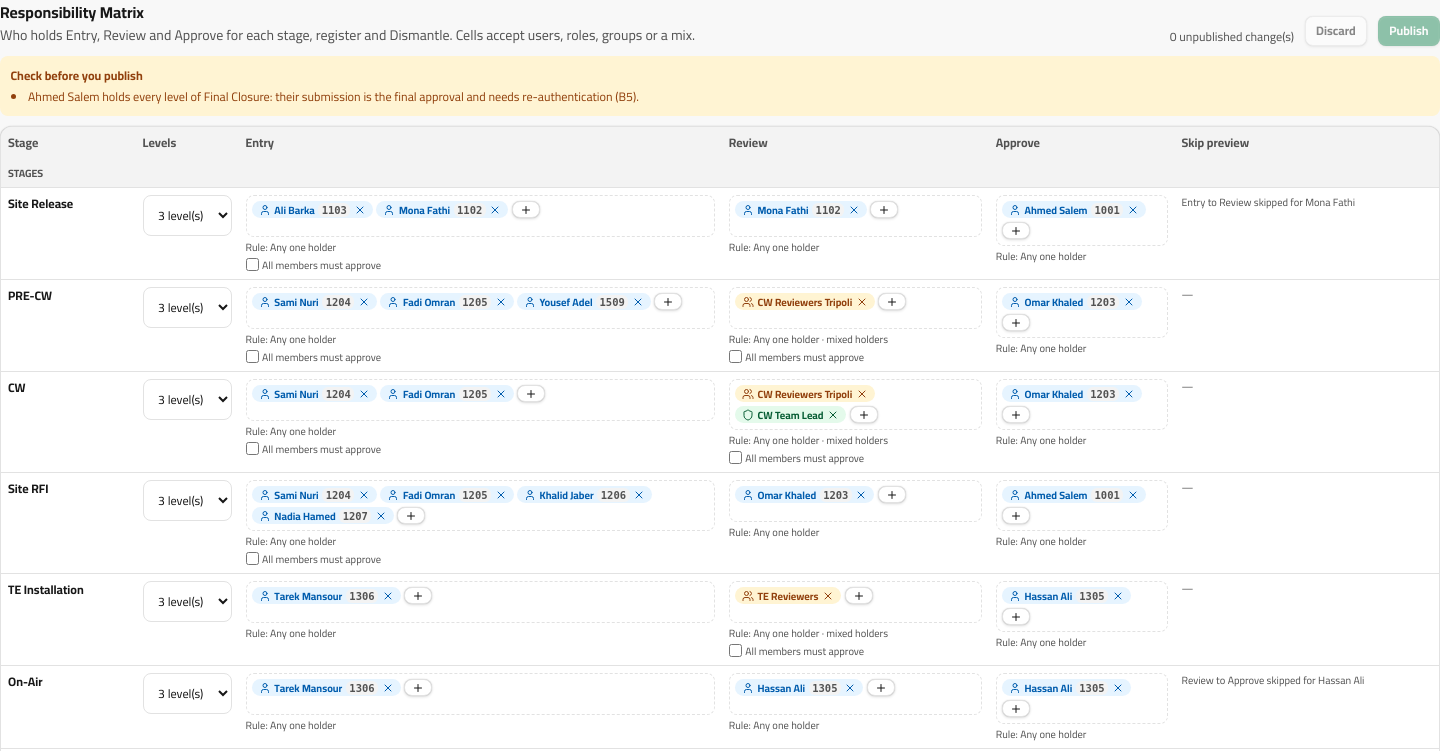
Matrix page with a 2-level row › shows the skip between entry and approve of a 2-level row (the same person holds cells 1 and 3)
Select "2 level(s)" in the dropdown with test id "matrix-levels-site_release" at coordinates (187, 215), box [143,194,232,236]
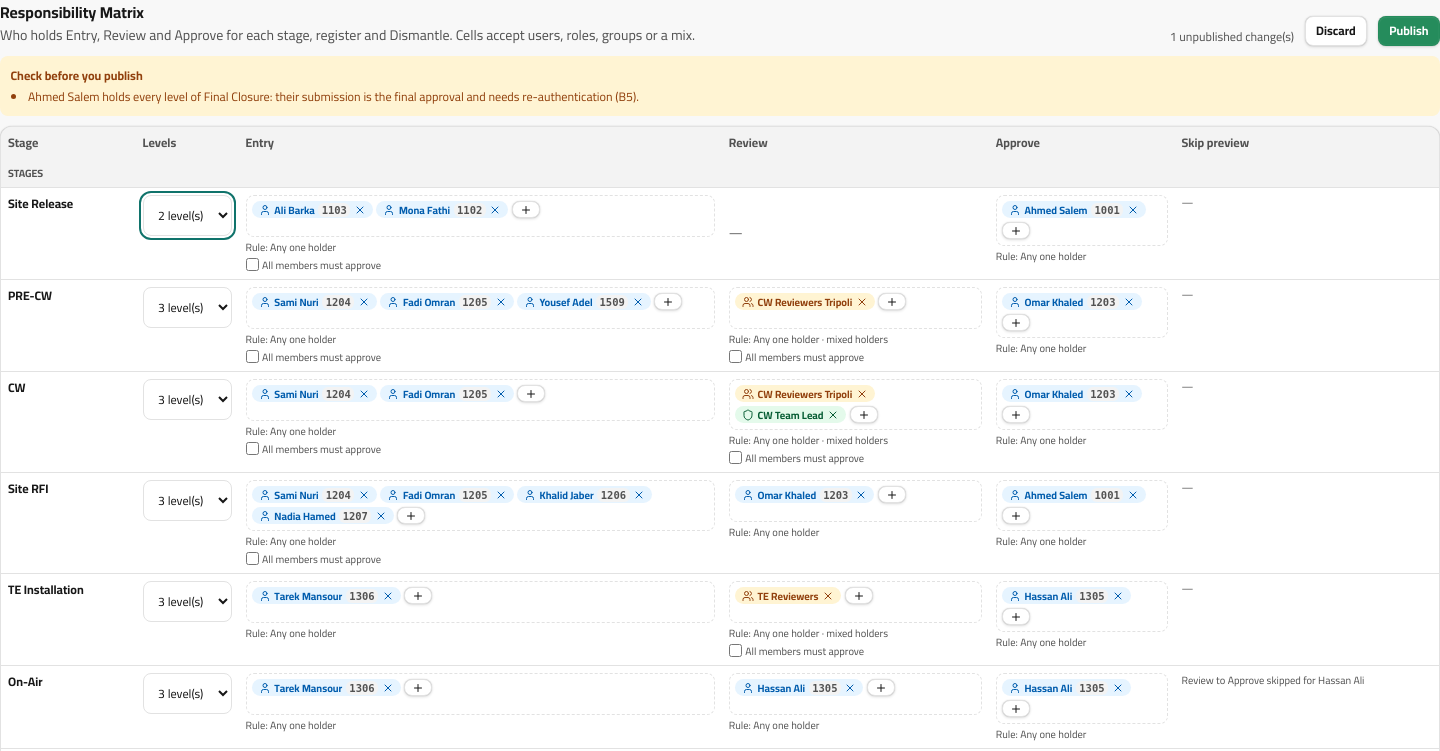
Click the 2nd button with test id "matrix-add".
click(1016, 231)  # box [1002,222,1030,239]
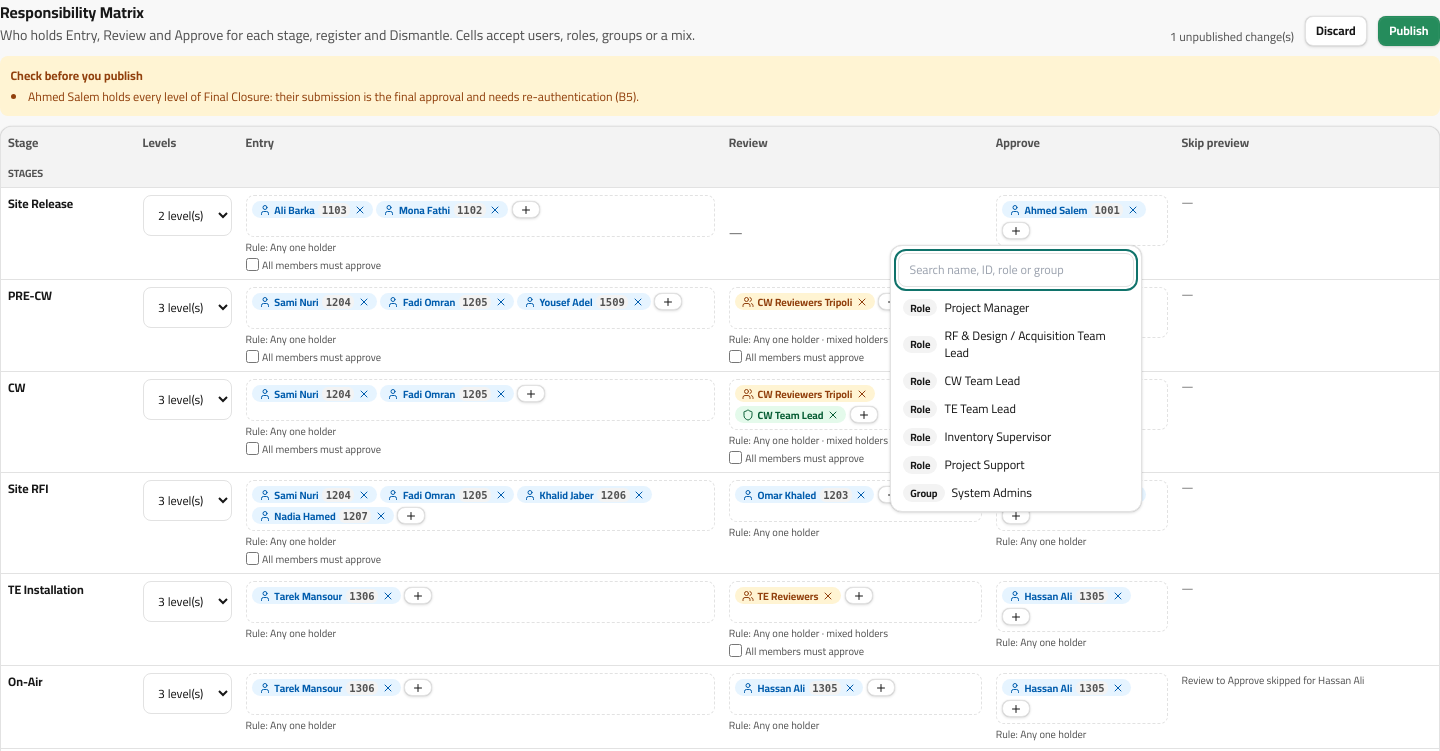
Type "Mona" into the field with test id "matrix-picker-q".
click(1016, 270); type("Mona")  # box [898,253,1134,286]
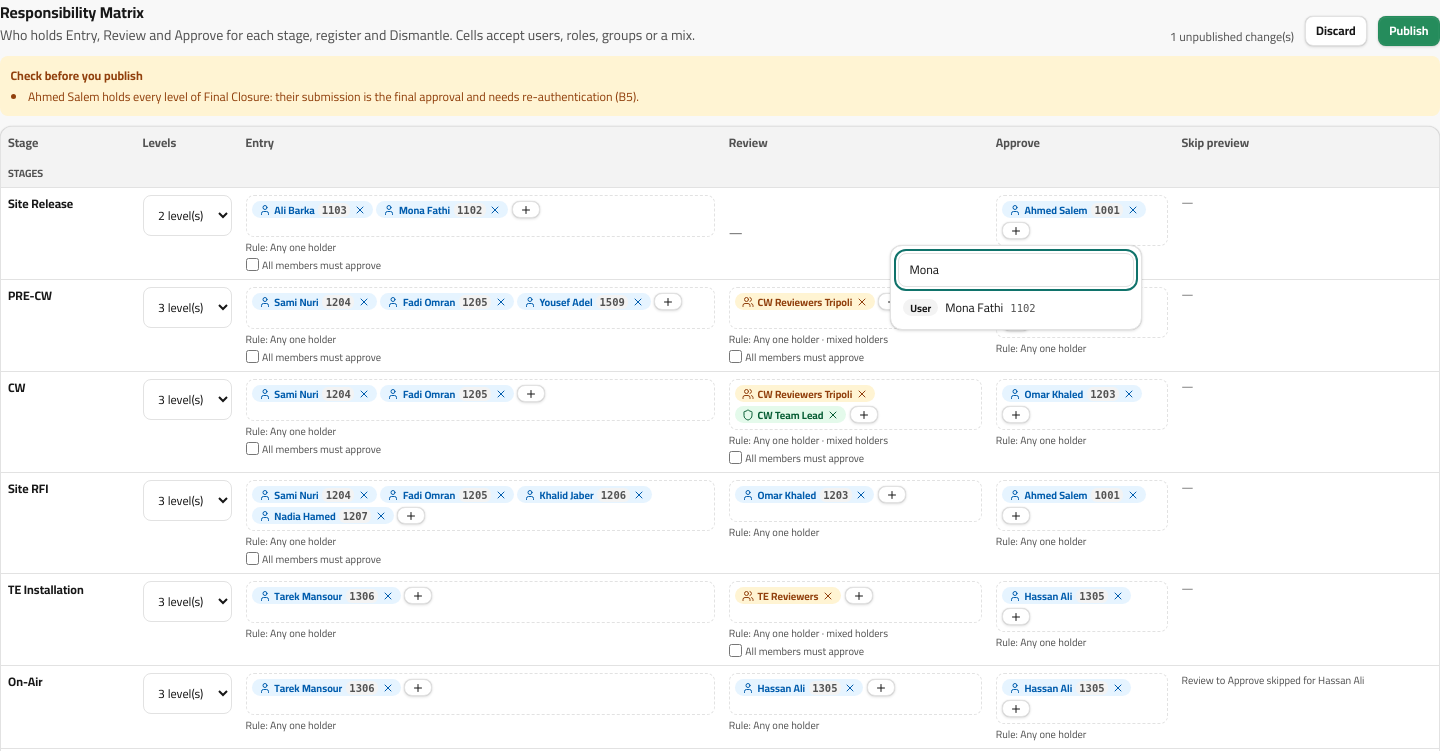
Click the button with test id "matrix-opt-user-1102".
click(1016, 308)  # box [898,294,1134,322]
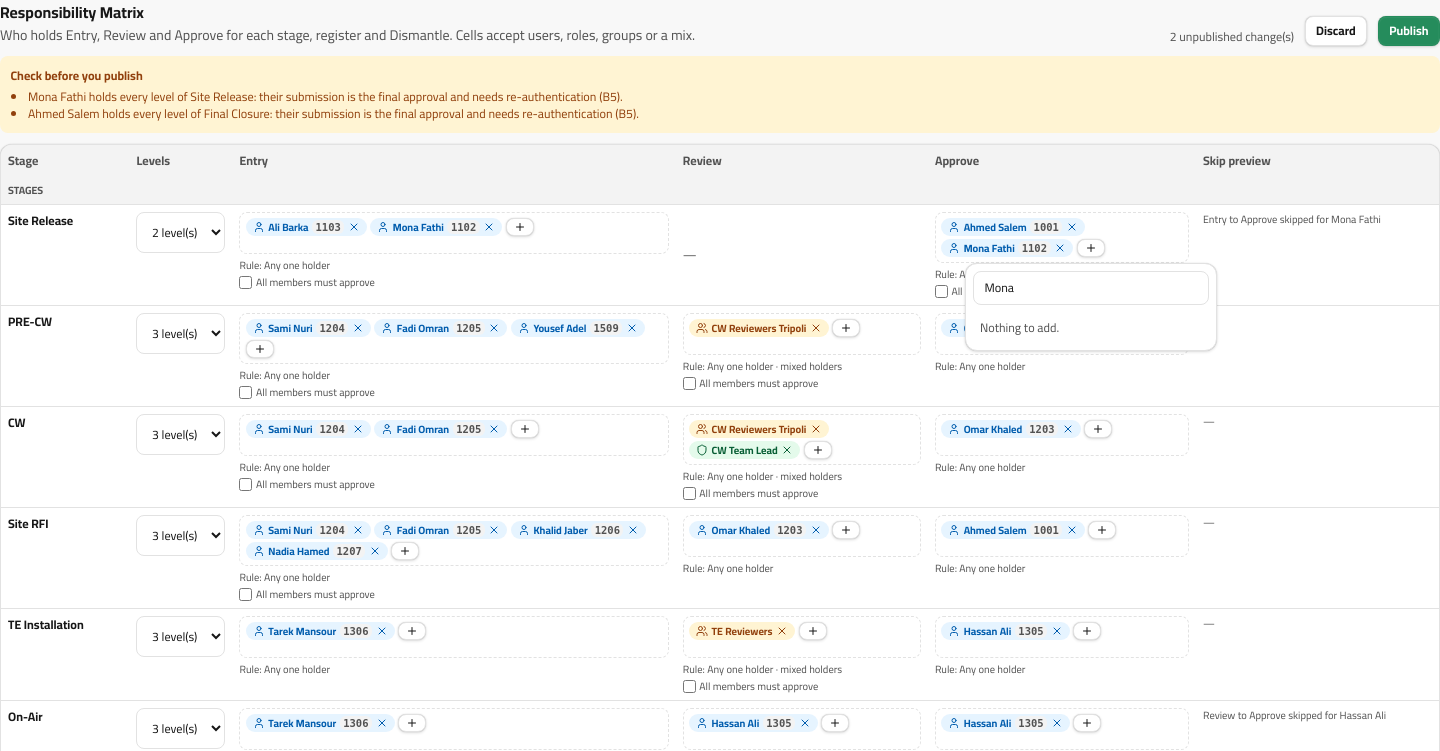
Expected: the cell with test id "matrix-skip-site_release" reads "Entry to Approve skipped for Mona Fathi", [1203,209,1381,229]
Expected: the list item with test id "matrix-warn-self-site_release" is shown, [28,84,623,108]
